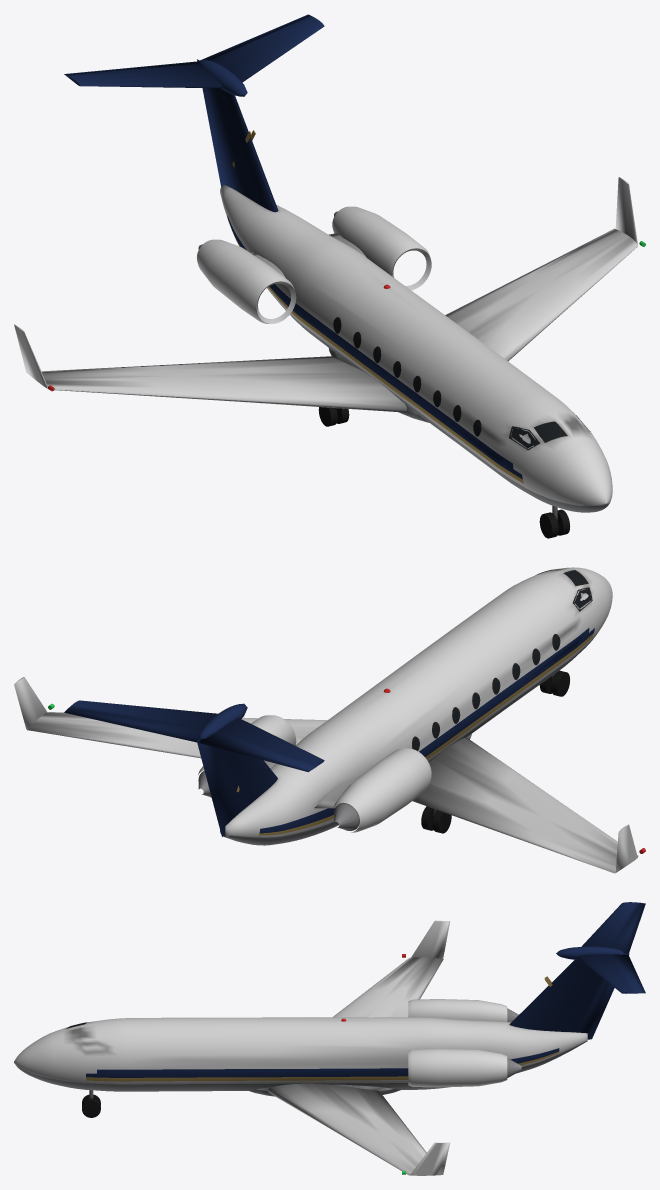
File: rajhans_lod1.glb
3 views of the same model, one above another, from view 1: azimuth 30°, elevation 25°; view 2: azimuth 150°, elevation 25°; view 3: azimuth 270°, elevation 25° (orthographic). The views are drawn at different scales.
Parts seen in each view (by area): view 1: rajhans.001; view 2: rajhans.001; view 3: rajhans.001.
Boxes of the visible parts, left/top/right/bottom form: rajhans.001: left=14, top=14, right=645, bottom=538; rajhans.001: left=14, top=567, right=645, bottom=873; rajhans.001: left=14, top=902, right=645, bottom=1175.
Size of the model in its own units: 18.35 by 6.46 by 22.04.
